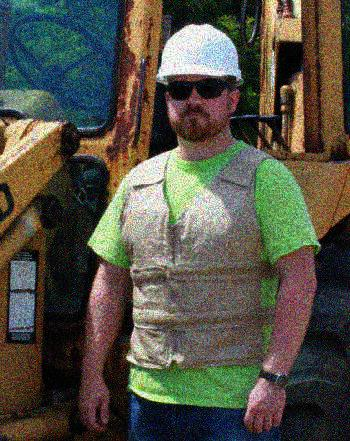helmet: (154, 21, 245, 141)
